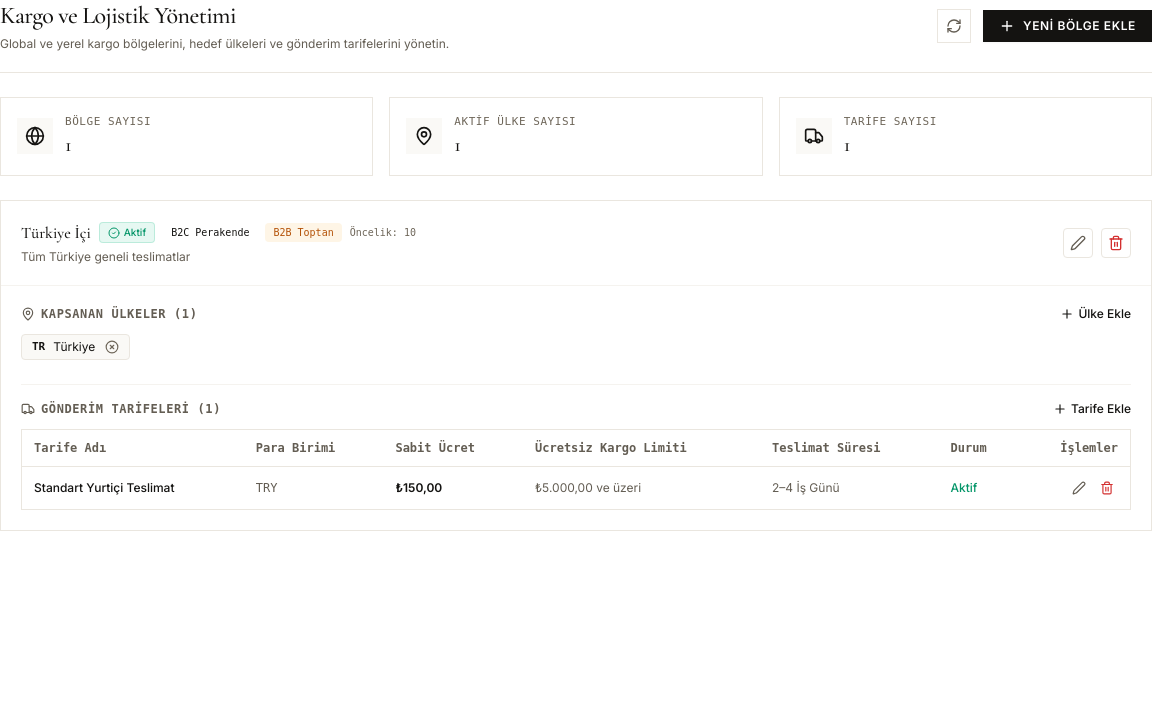
Test: AdminShippingPage Component (Phase 3.3) › opens ConfirmDialog when clicking delete zone button
Expected: the heading "Türkiye İçi" is shown, x1=21 y1=220 x2=91 y2=244
Click the button titled "Bölgeyi Sil".
click(1116, 242)  # box x1=1101 y1=228 x2=1131 y2=258
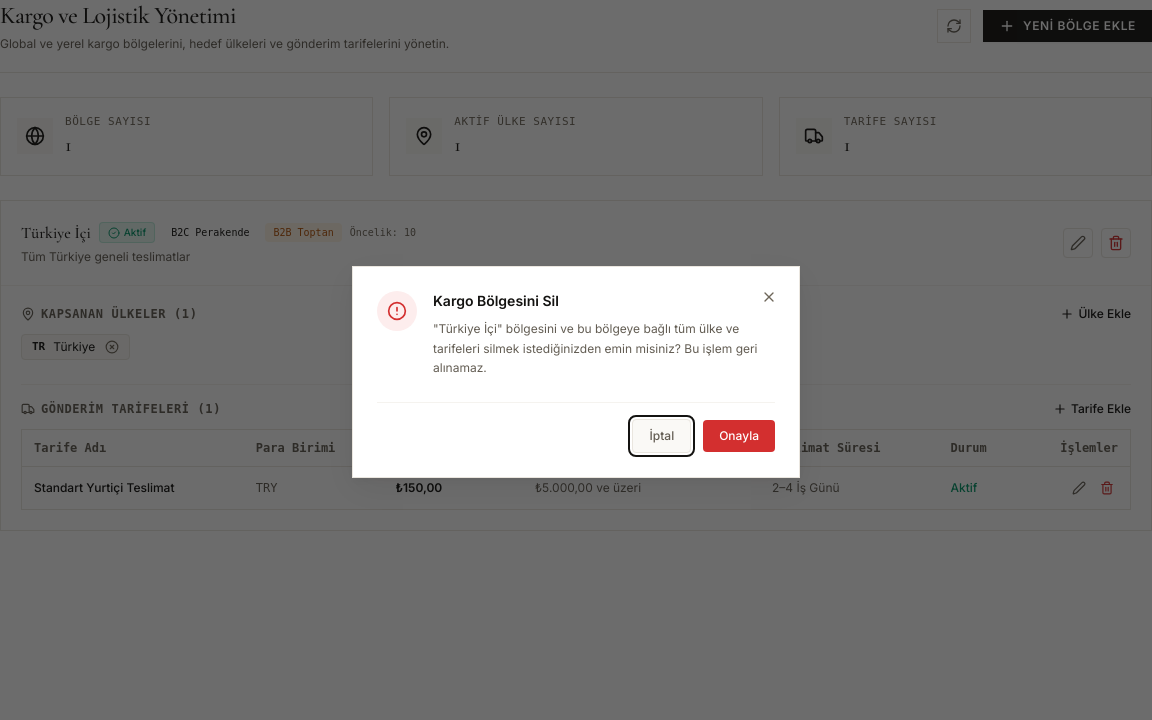
Now the heading "Kargo Bölgesini Sil" is shown, box x1=433 y1=292 x2=559 y2=309
Now the text "bölgesini ve bu bölgeye bağlı tüm ülke ve tarifeleri silmek istediğinizden emin misiniz" is shown, box x1=433 y1=321 x2=758 y2=375
